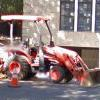Tractor: (6, 10, 84, 83)
